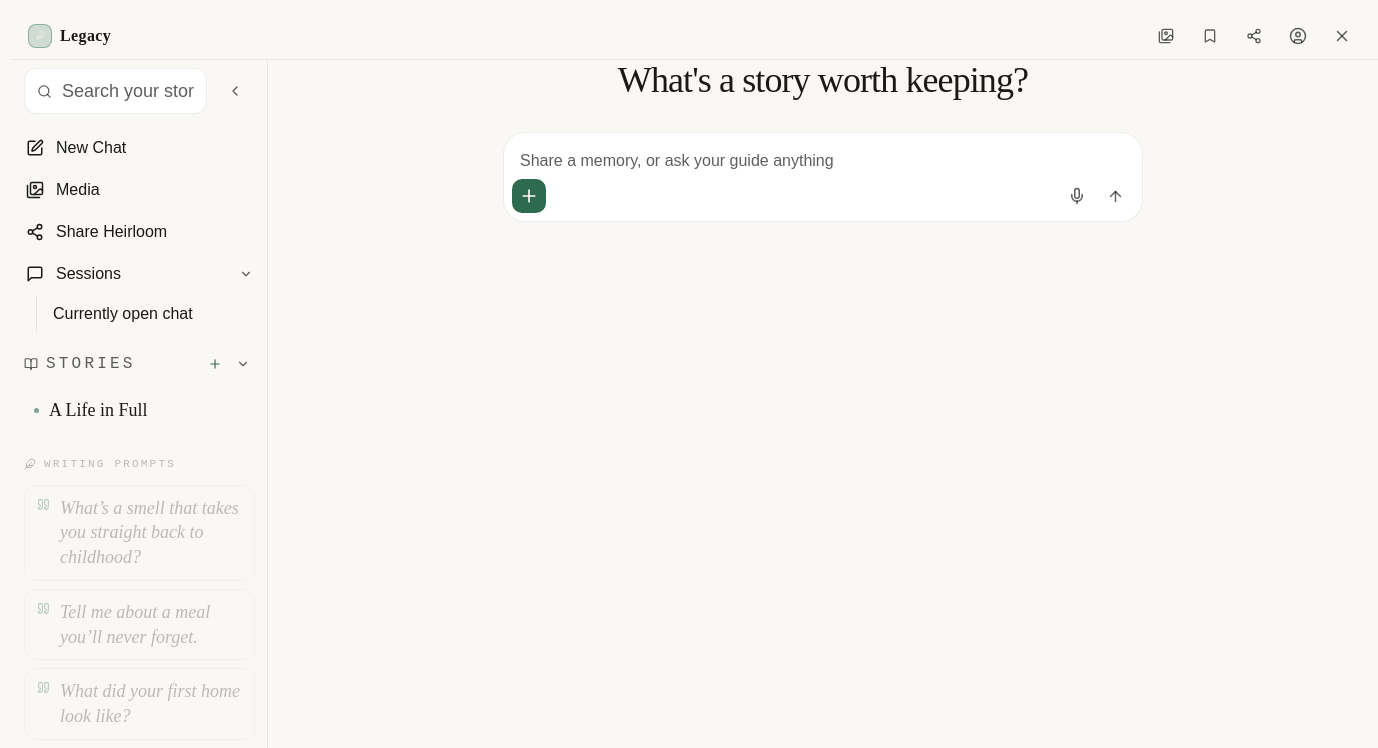
Test: Story view row-tap-to-editor — through the real ChatHero stack › tapping a row swaps the story pane to the editor, scoped to the memory's OWN session, not the currently open chat
Click the button "A Life in Full". click: (110, 410)
box: [24, 388, 195, 432]
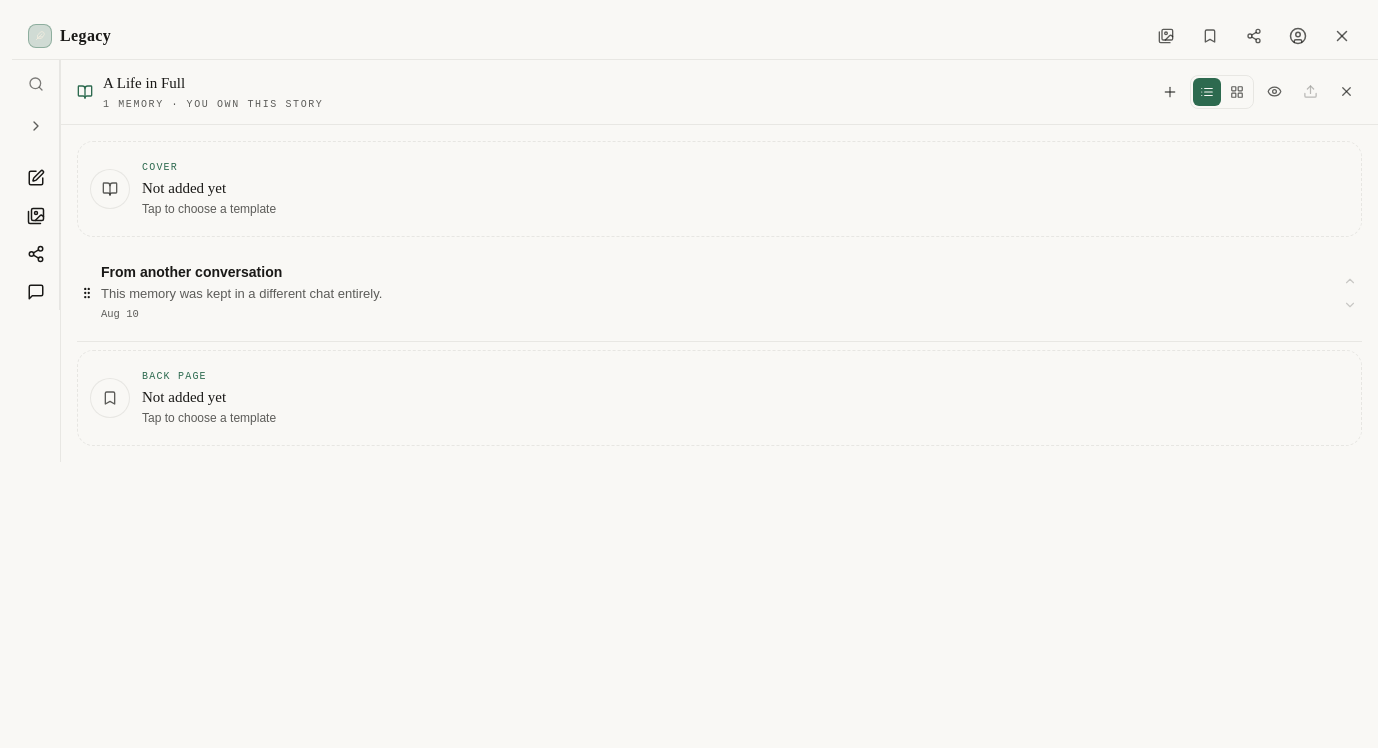
Check: the text "From another conversation" is shown, box [101, 264, 282, 280]
Click the button "From another conversation". click: (192, 272)
box: [97, 244, 1338, 340]
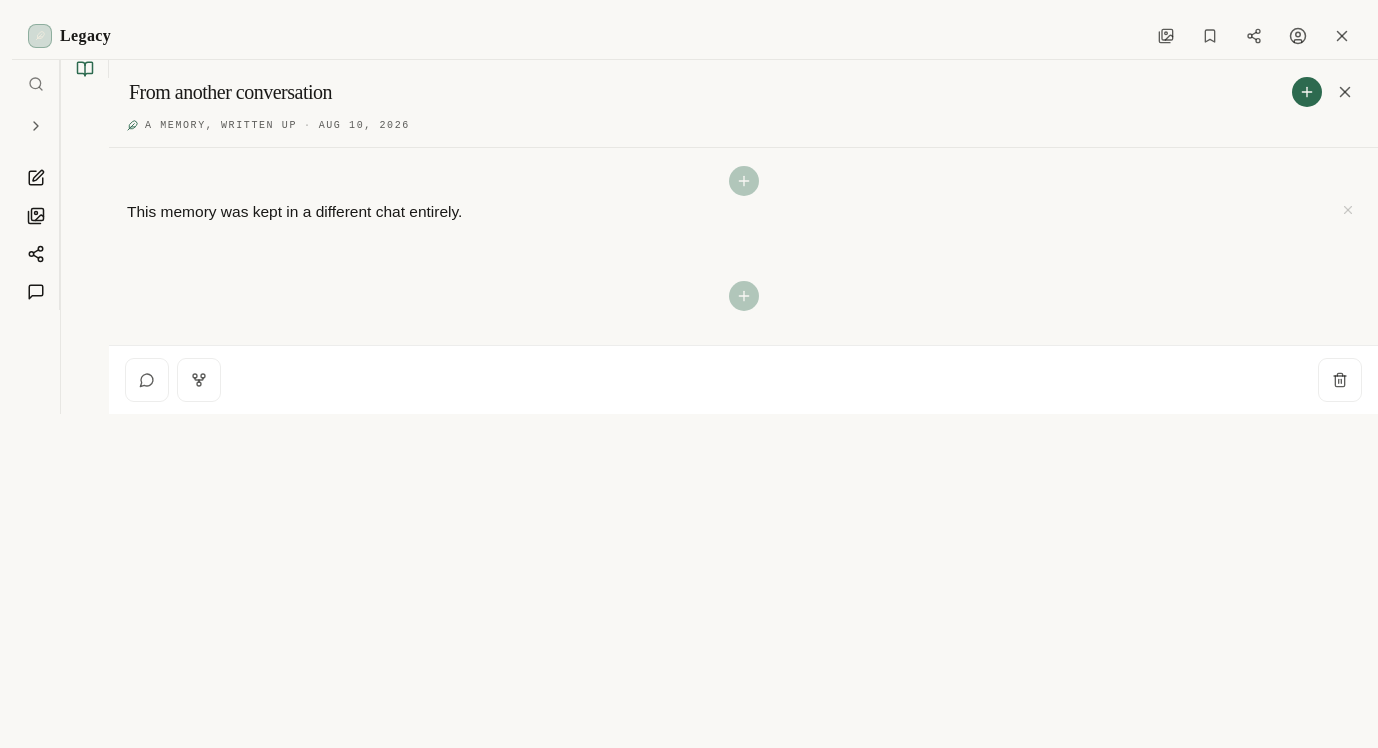
Check: the field named "Memory title" holds "From another conversation", box [127, 74, 1284, 110]
